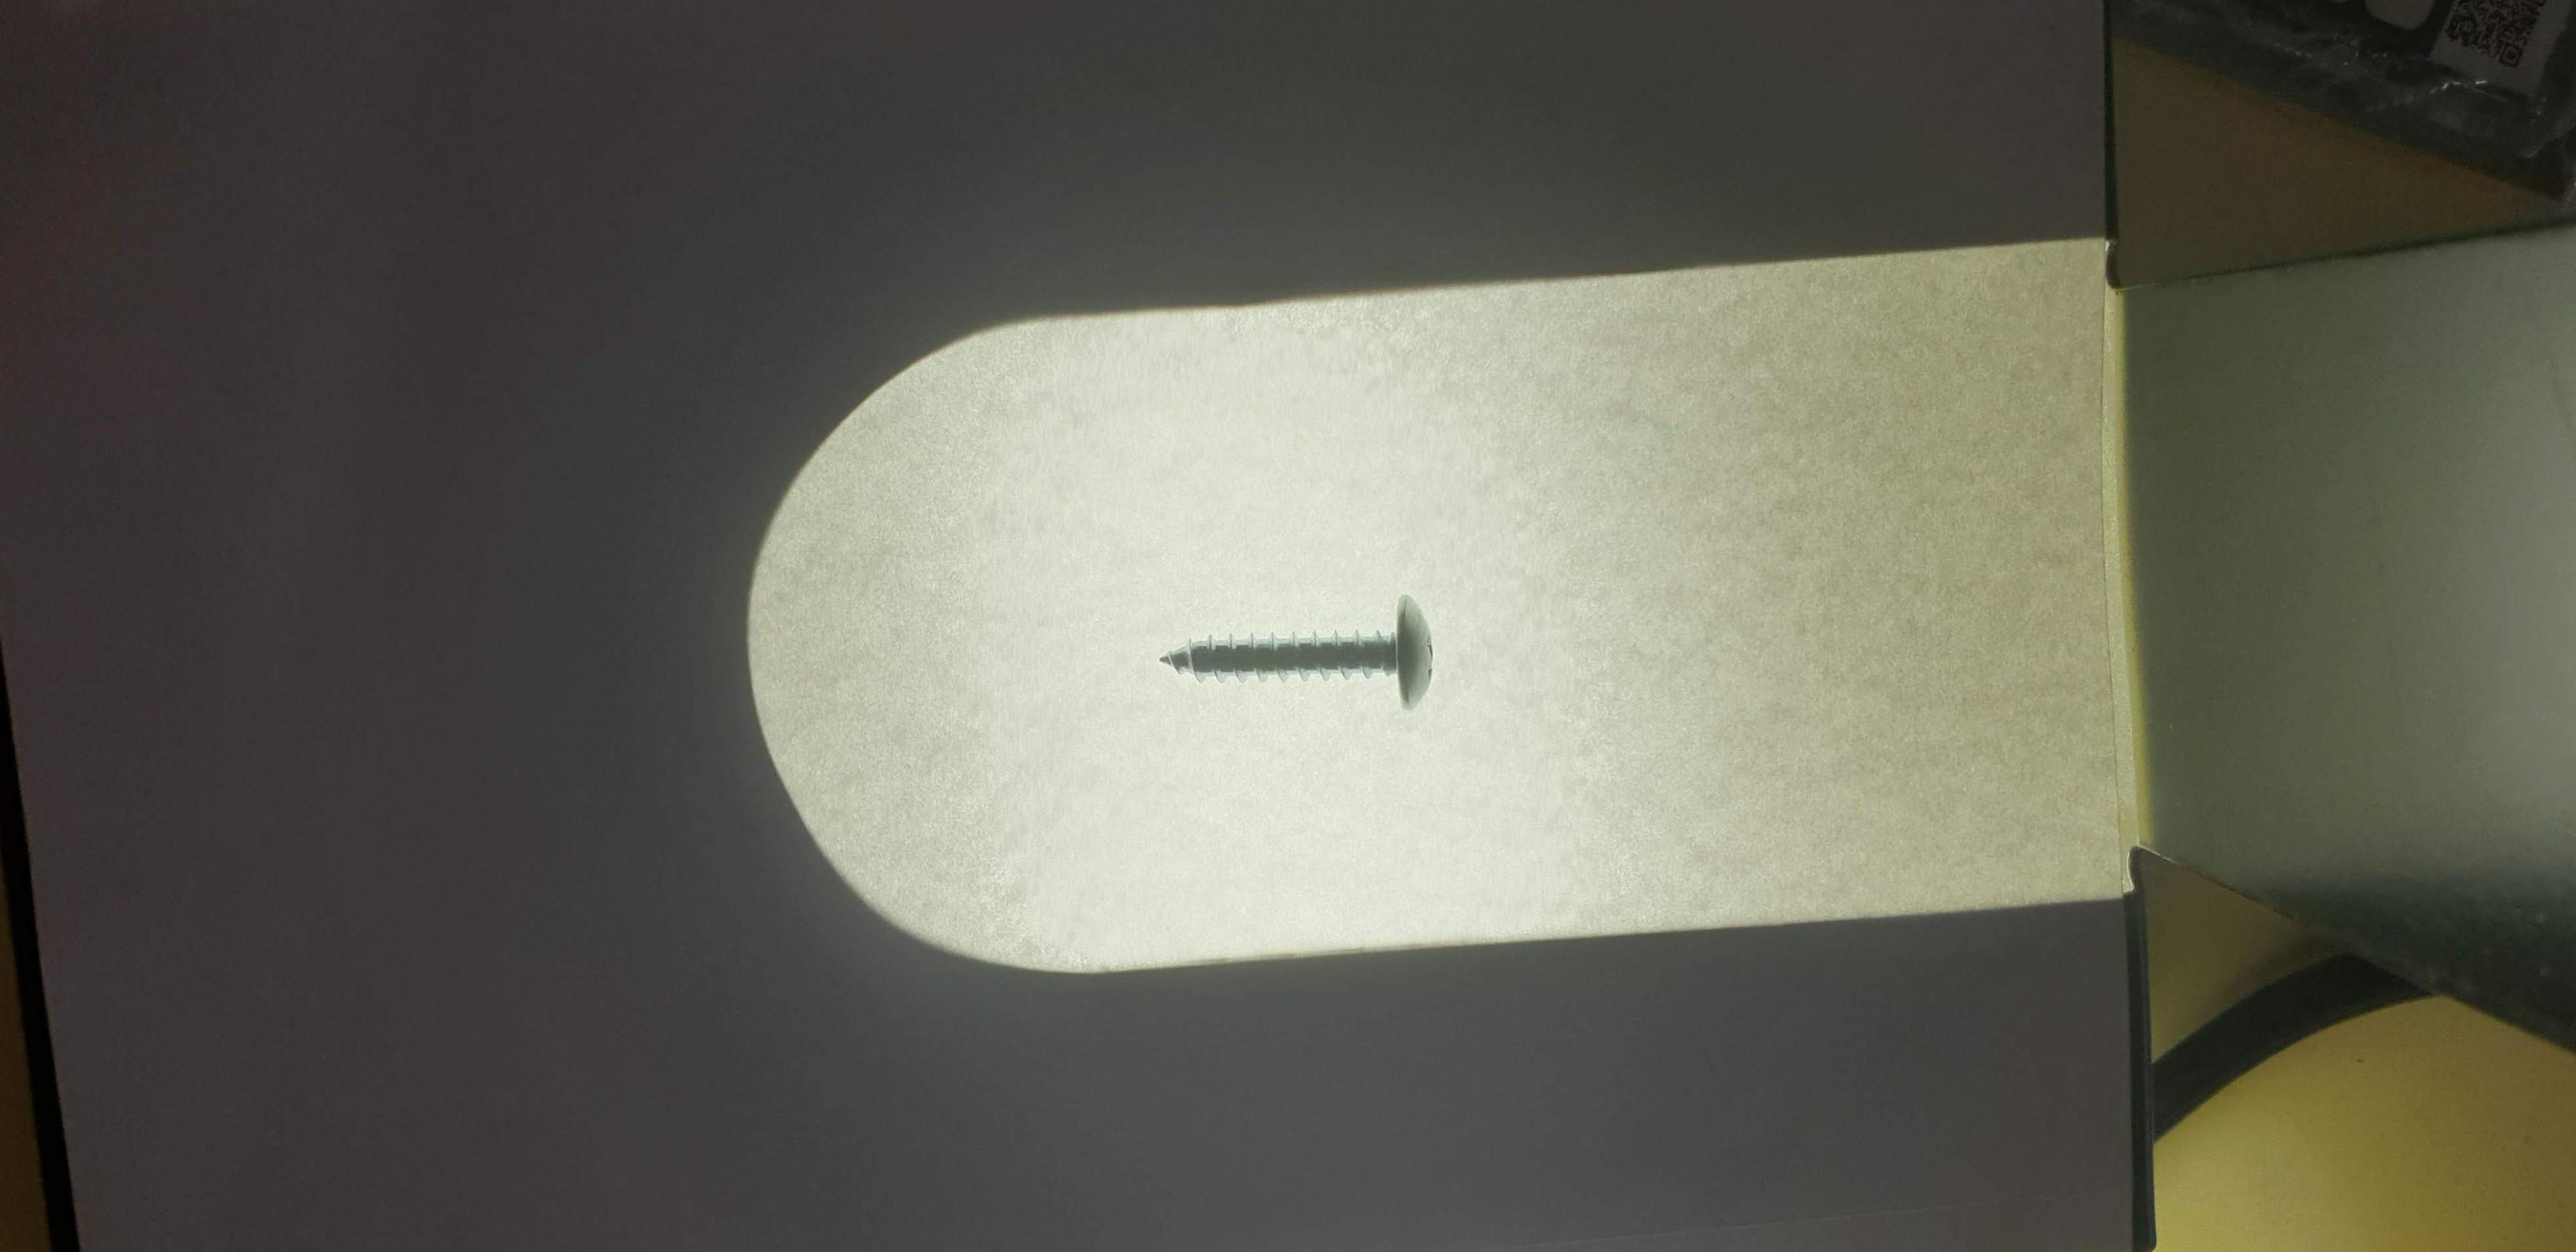S002: (1125, 564, 1493, 736)
